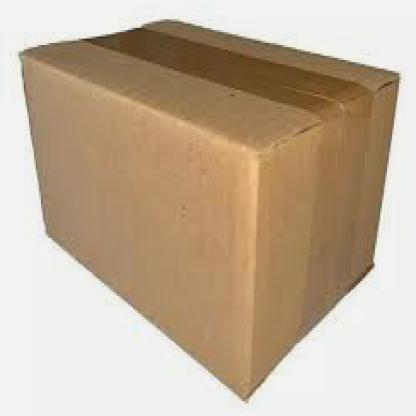package: (20, 17, 401, 401)
